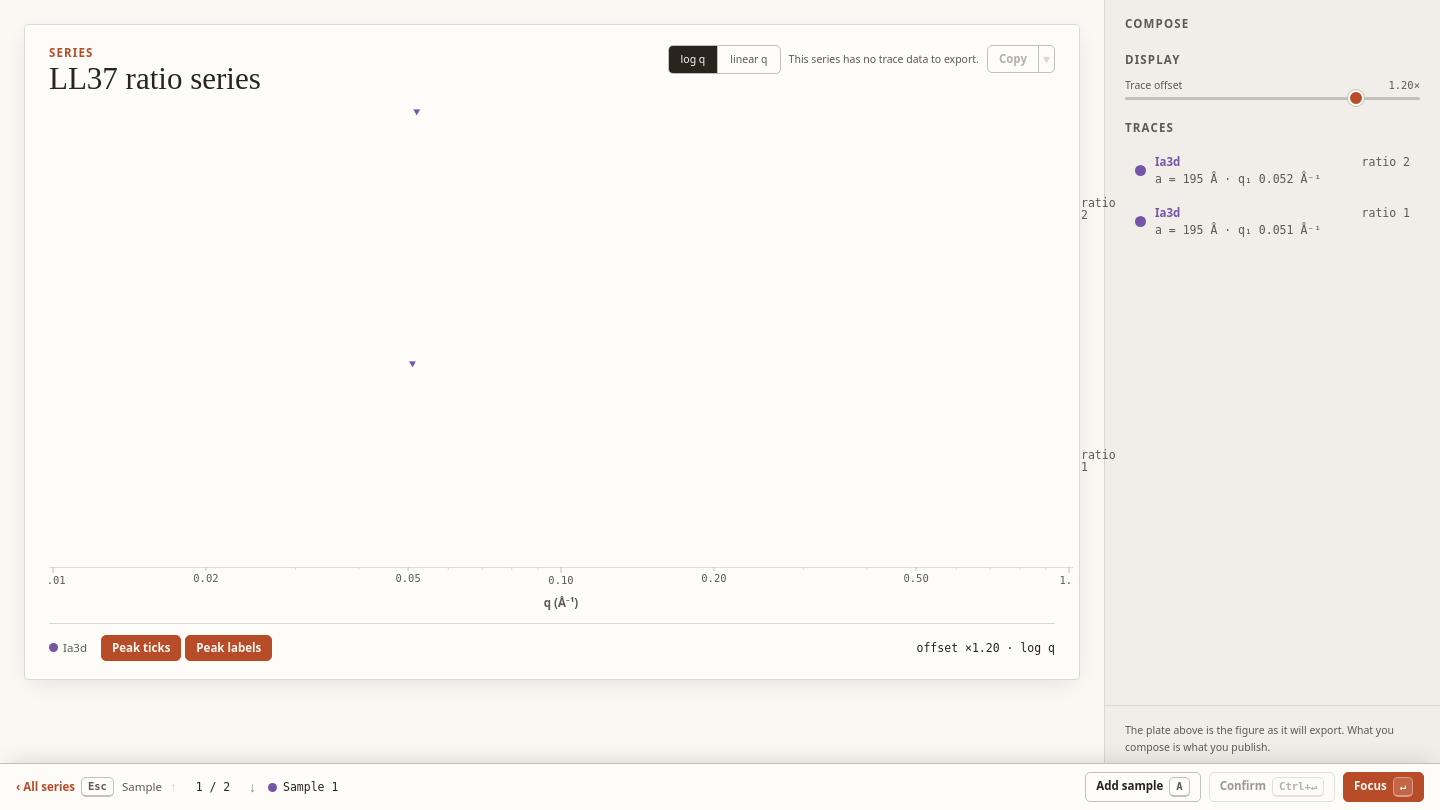
Test: SeriesBuilderPage › the contextual dock (§7) › the ↓ stepper advances the cursor and the readout
Click the button with test id "dock-next-sample": [252, 787] box [245,776,260,798]
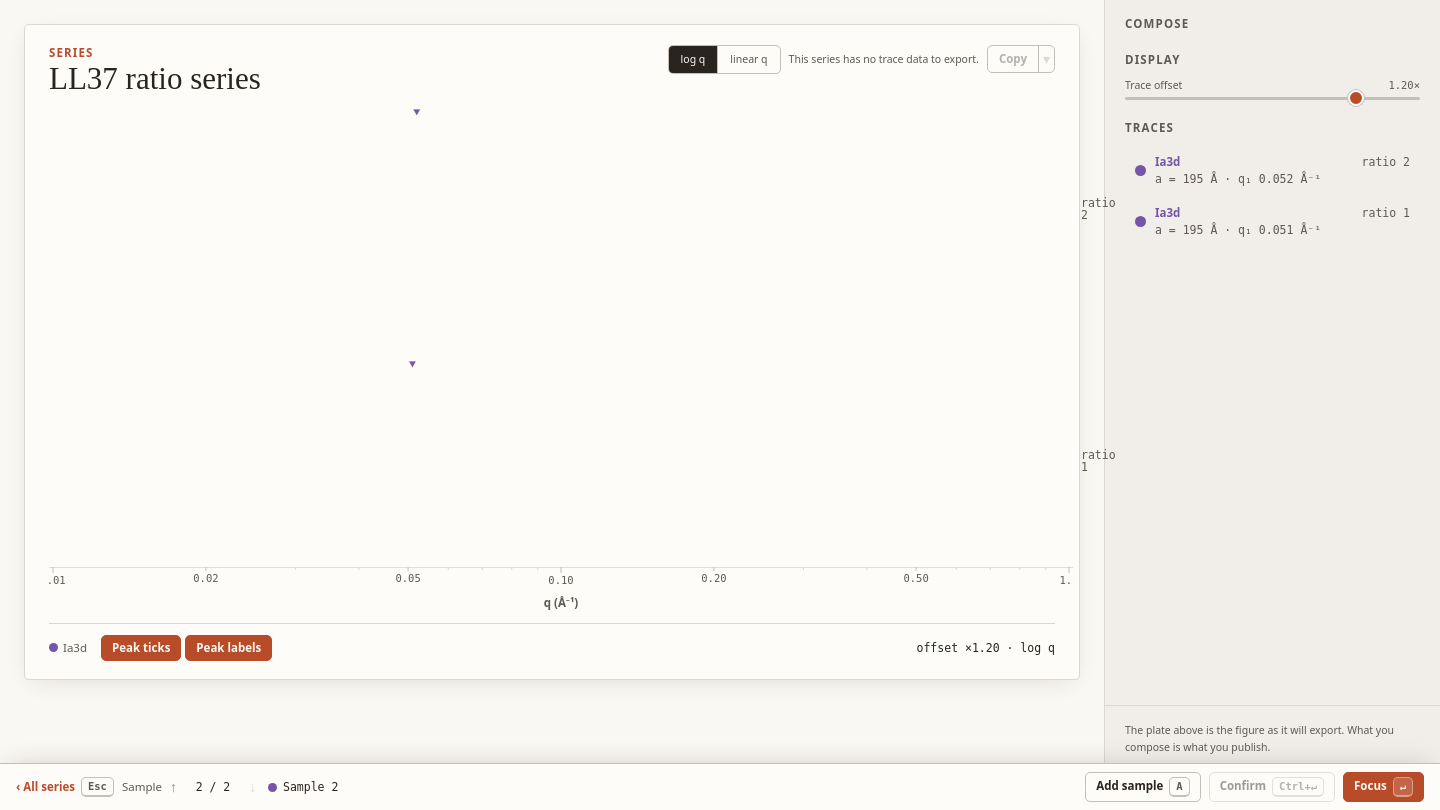
Expected: the button with test id "dock-prev-sample" is enabled, [166,776,181,798]
Result: the text with test id "dock-sample-count" reads "2 / 2" at [196,780,230,794]
